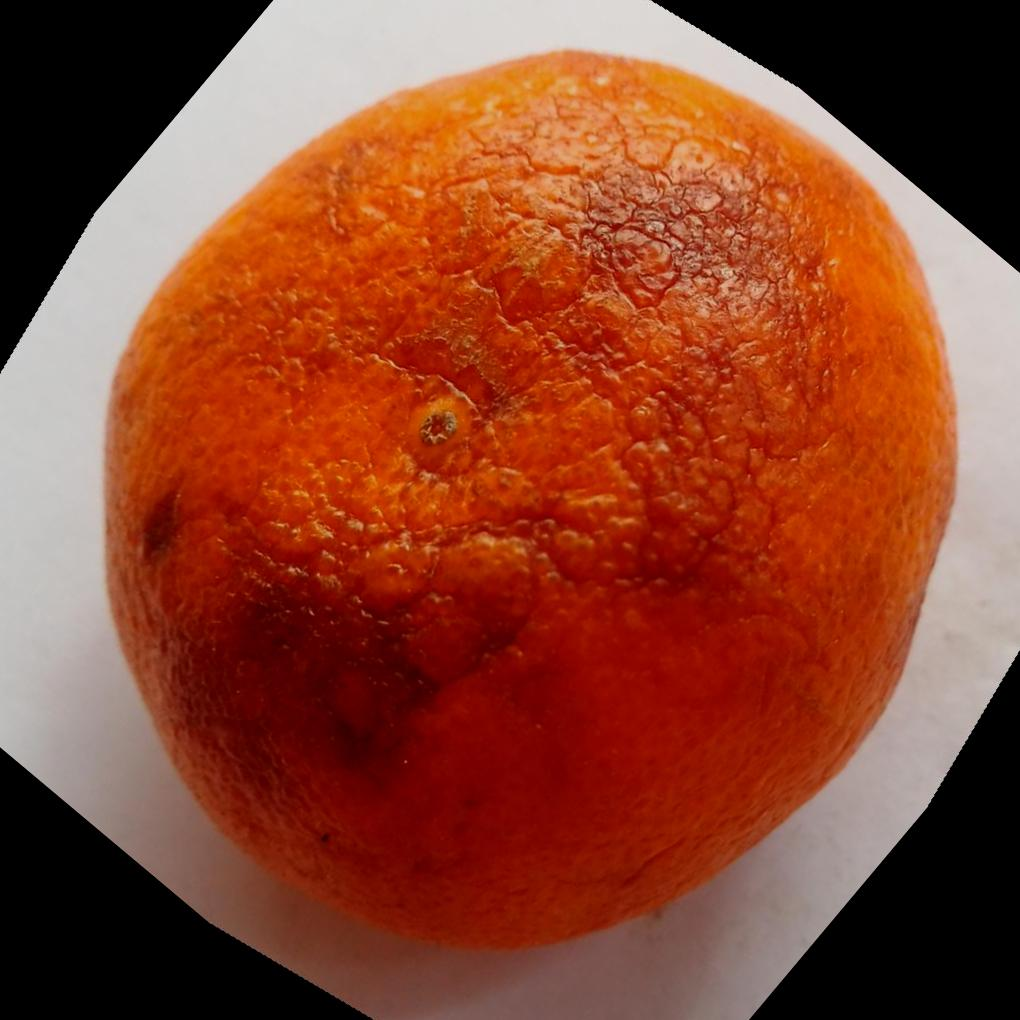FreshOrange: (100, 47, 963, 956)
